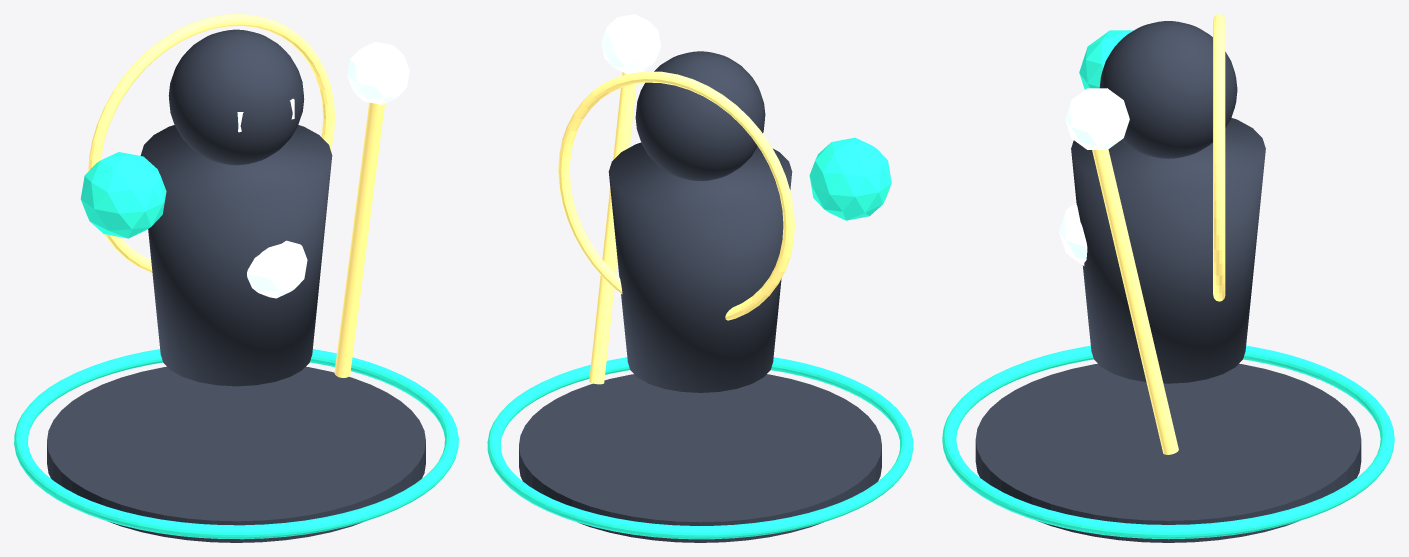
The model's file is onyx.glb.
3 views of the same model, side by side, from view 1: azimuth 30°, elevation 25°; view 2: azimuth 150°, elevation 25°; view 3: azimuth 270°, elevation 25° (orthographic). The views are drawn at different scales.
Visible parts, largest first — view 1: AbilityPedestal, AgentTorso, AgentHead, AbilityAuraRing, Pet_ONYX, SovereignHalo, SignatureWeapon, WeaponApex, AgentCore; view 2: AbilityPedestal, AgentTorso, AgentHead, AbilityAuraRing, SovereignHalo, Pet_ONYX, SignatureWeapon, WeaponApex; view 3: AbilityPedestal, AgentTorso, AgentHead, AbilityAuraRing, SignatureWeapon, SovereignHalo, WeaponApex, Pet_ONYX, AgentCore.
Part boxes in pixels (x1,y1,x2,y2): AbilityPedestal: [47, 366, 425, 542]; AgentTorso: [140, 125, 332, 386]; AgentHead: [168, 29, 304, 165]; AbilityAuraRing: [14, 349, 458, 539]; Pet_ONYX: [80, 152, 166, 238]; SovereignHalo: [88, 14, 334, 272]; SignatureWeapon: [334, 102, 384, 377]; WeaponApex: [347, 42, 409, 104]; AgentCore: [247, 240, 307, 298]; AbilityPedestal: [519, 374, 881, 542]; AgentTorso: [608, 142, 792, 392]; AgentHead: [635, 51, 765, 181]; AbilityAuraRing: [487, 357, 913, 539]; SovereignHalo: [558, 71, 794, 320]; Pet_ONYX: [809, 137, 891, 220]; SignatureWeapon: [589, 72, 636, 384]; WeaponApex: [601, 14, 660, 74]; AbilityPedestal: [975, 363, 1361, 542]; AgentTorso: [1071, 118, 1265, 383]; AgentHead: [1099, 21, 1237, 158]; AbilityAuraRing: [942, 345, 1394, 539]; SignatureWeapon: [1092, 149, 1178, 454]; SovereignHalo: [1213, 14, 1225, 301]; WeaponApex: [1065, 88, 1129, 149]; Pet_ONYX: [1079, 30, 1133, 89]; AgentCore: [1059, 203, 1087, 265].
Bounding box in the file's own units: 2.23 × 2.36 × 2.23.
